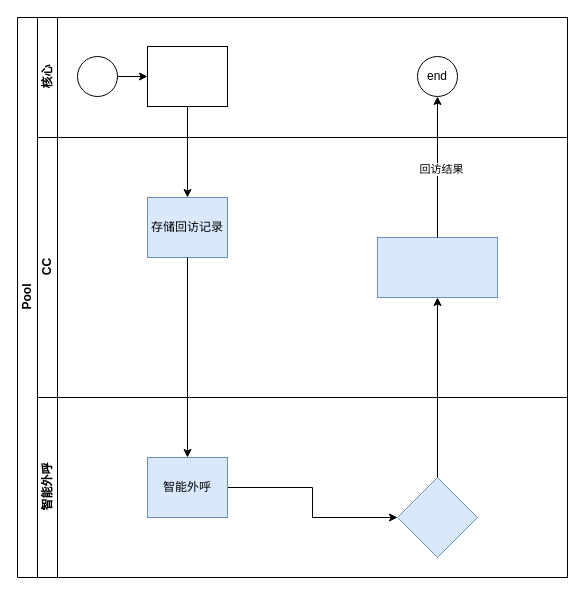
Some shapes in this 585 by 595 pixel diagram are drawn without their labels. The shapes that lost their labels are listed below. From the top down, each one's box as (x1, y1, x2, y2) in pixels, then its label:
(76, 56, 118, 96): start
(146, 46, 228, 106): 推送回访任务
(376, 236, 498, 298): 智能回访结果
(396, 476, 478, 558): fghj
